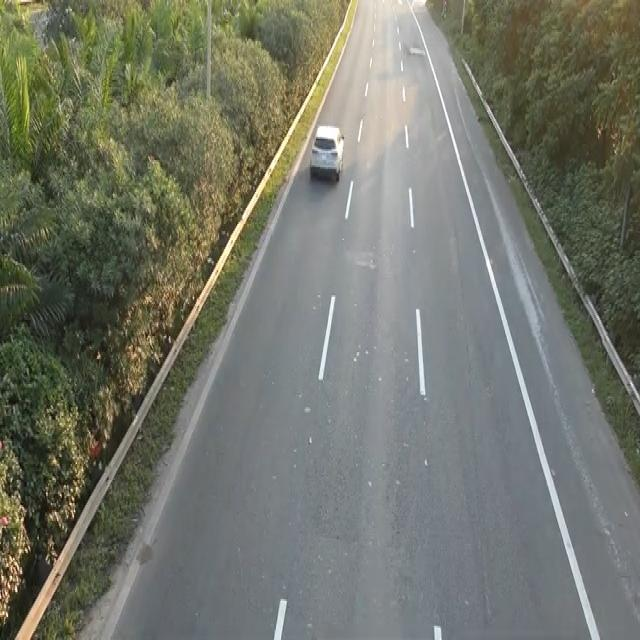car: (308, 121, 345, 183)
